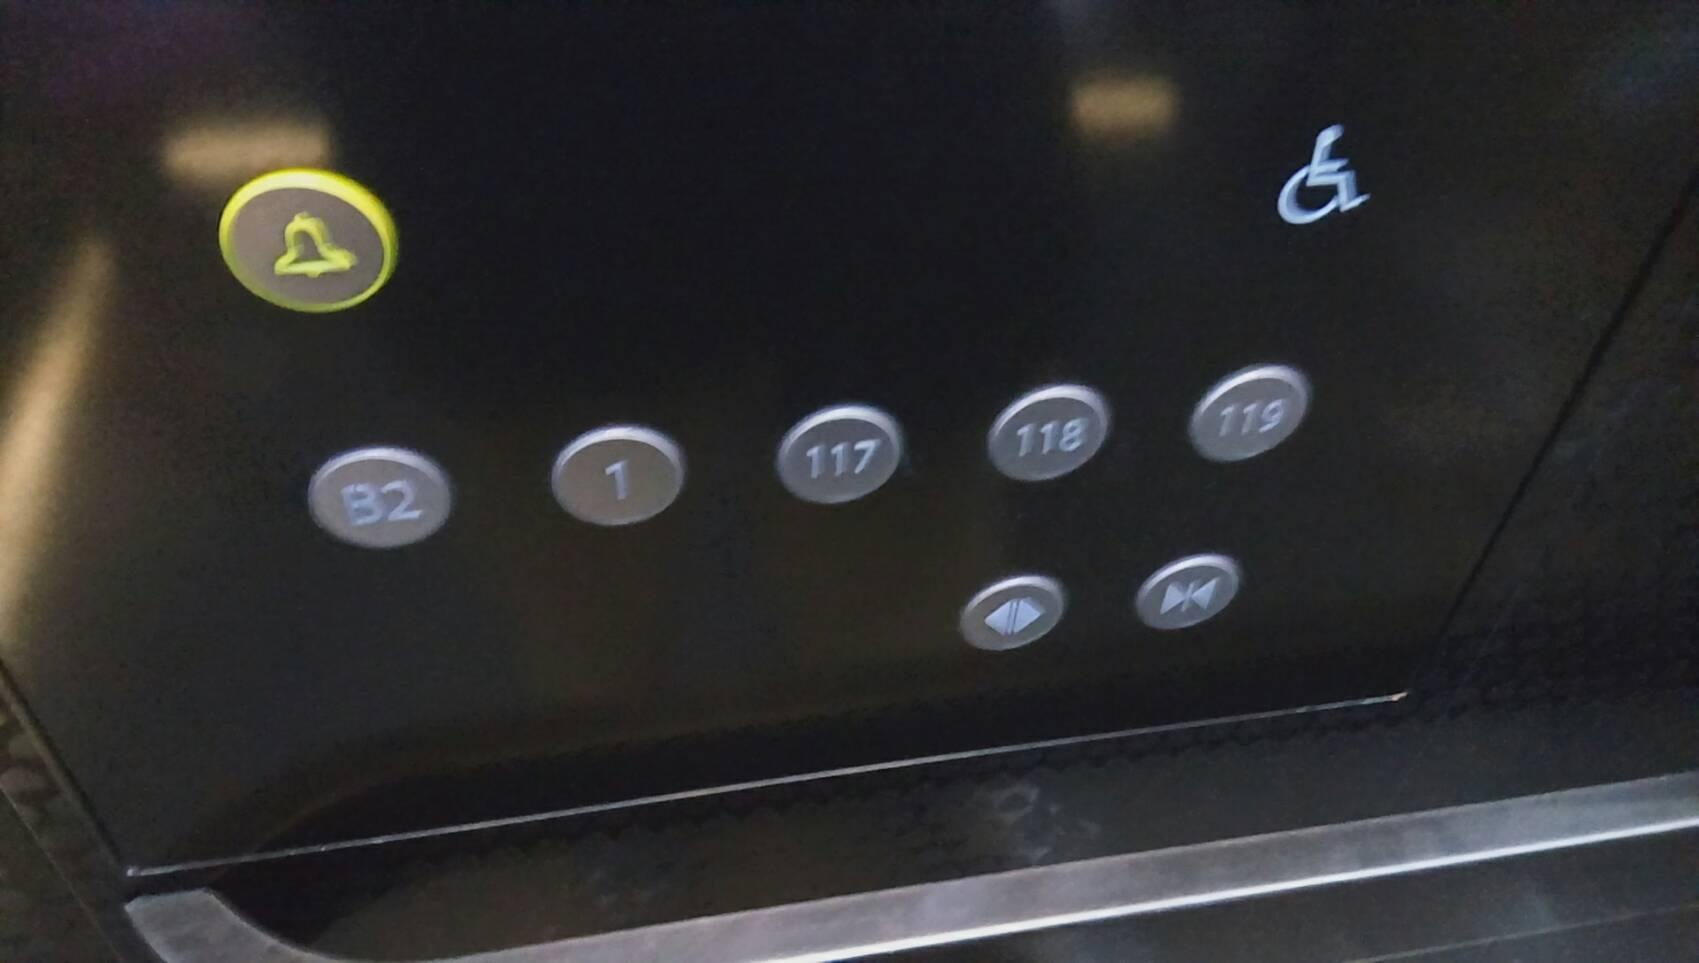1: (546, 417, 692, 539)
117: (770, 398, 913, 515)
118: (981, 374, 1116, 491)
119: (1184, 356, 1316, 473)
B2: (298, 437, 457, 557)
CH: (1259, 83, 1394, 239)
alarm: (212, 159, 403, 325)
close: (1126, 549, 1250, 636)
open: (953, 565, 1071, 661)
